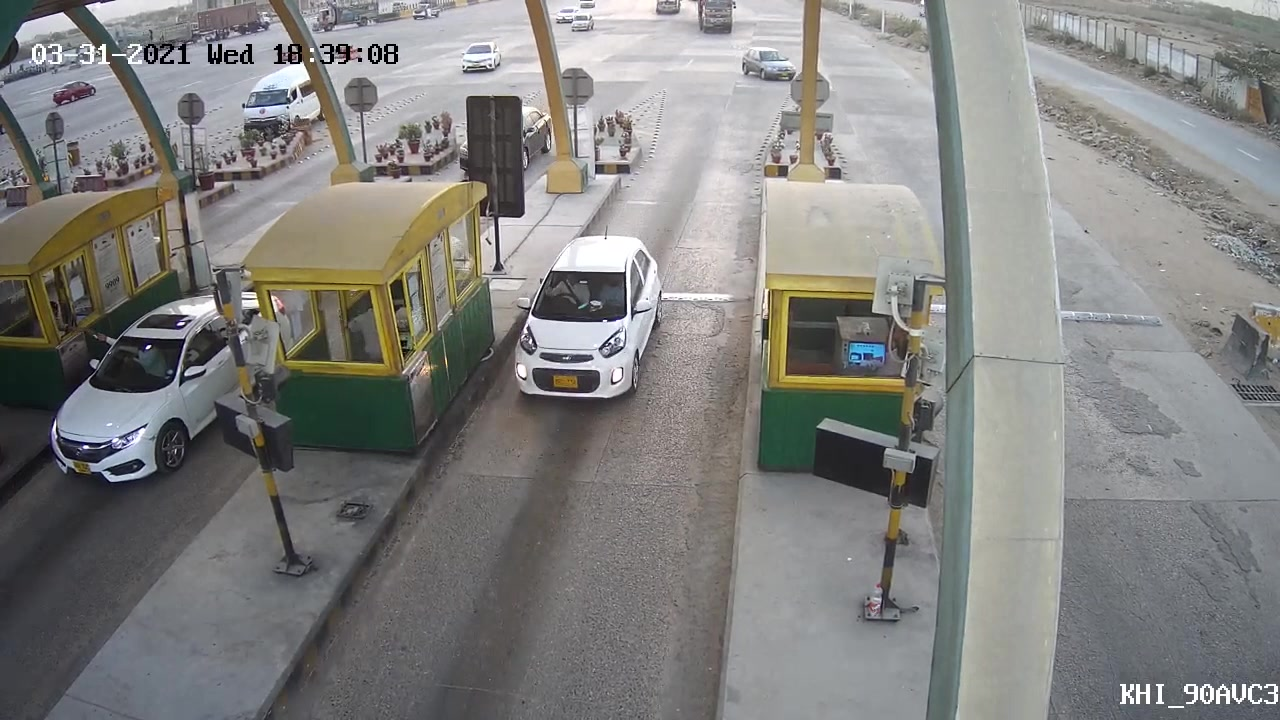F1: (506, 225, 673, 407)
